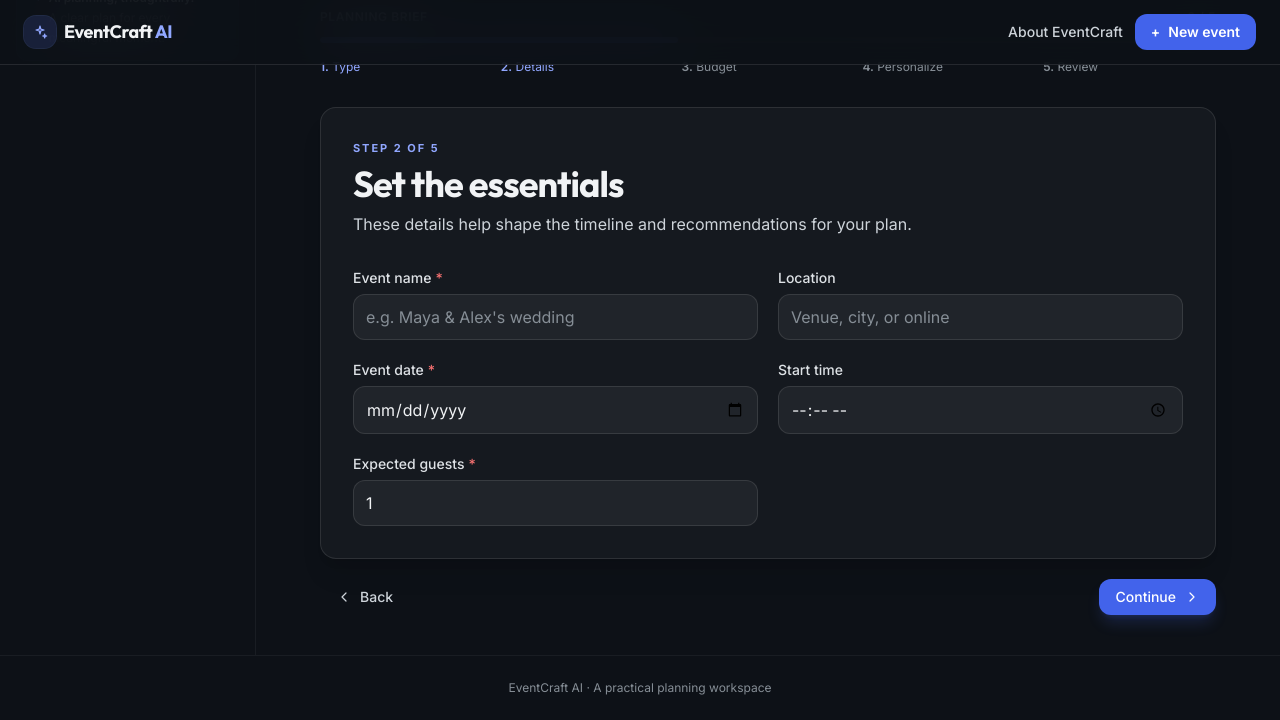
it: application shell and event wizard › validates the first required field before moving forward
(page scrolled)
Click the button "Continue" at coordinates (1158, 597), box [1100, 579, 1216, 615]
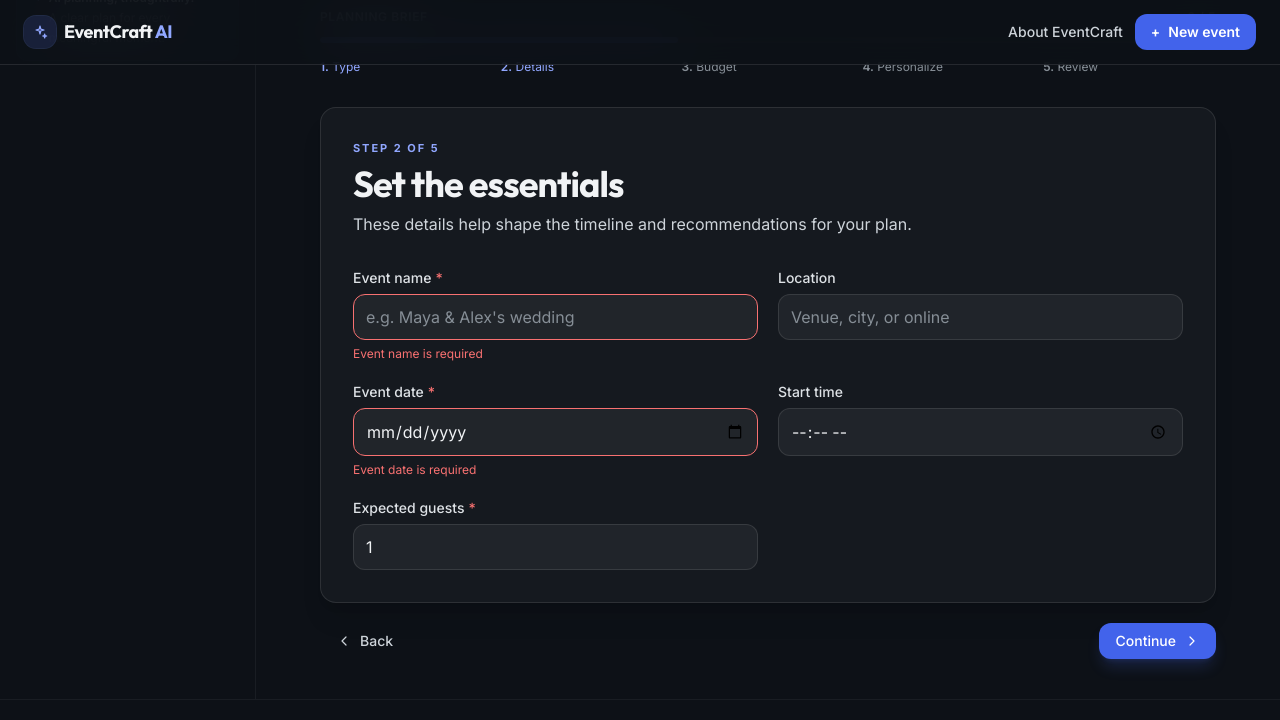
Expected: the heading "Set the essentials" is shown, [353, 161, 624, 206]
Result: the text "Event name is required" is shown at [353, 346, 483, 361]
